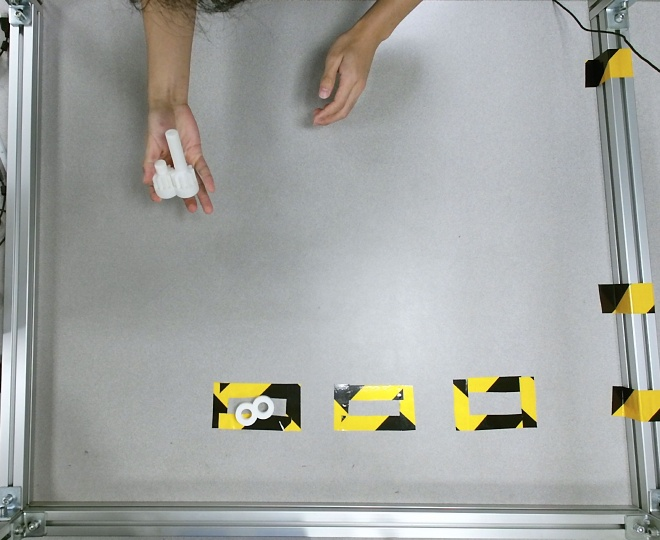stage_3: (153, 130, 199, 198)
